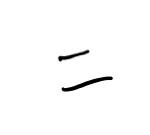eqv: (58, 49, 113, 91)
